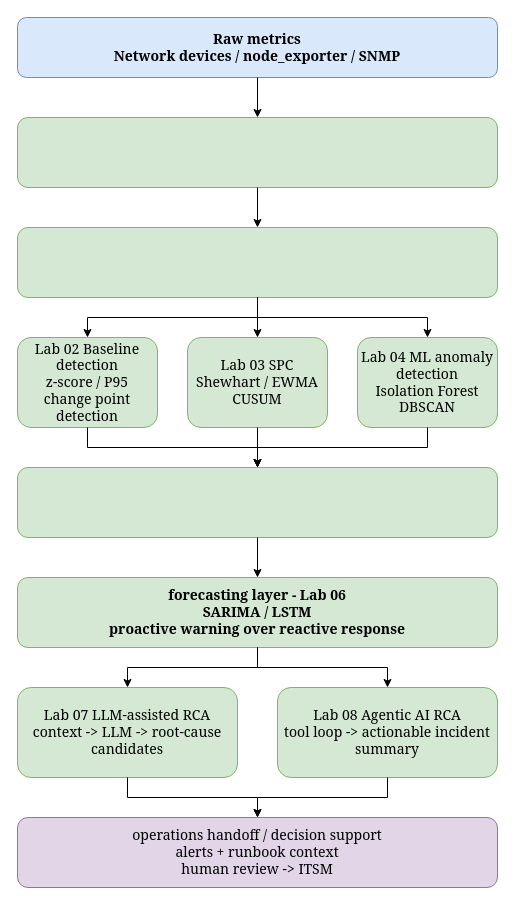
Image size: 515x905. Some labels were removed from this diagram. Each missing label, with the centre of its shape:
Alert reduction - Lab 05 correlation / suppression / deduplication: the point at 257,502
Collection layer - Lab 00 Prometheus + Grafana unified metrics query interface: the point at 257,152
Feature engineering - Lab 01 rate() / rolling stats composite ratios / lags: the point at 257,262
